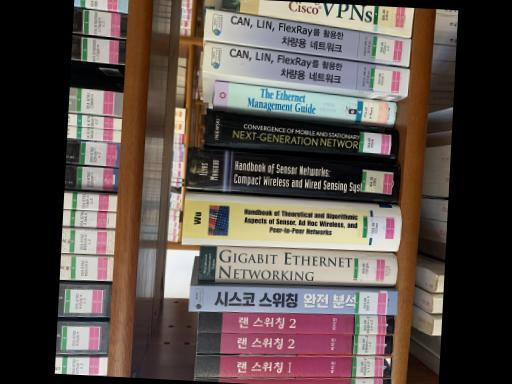book-spine: (182, 190, 401, 251), (203, 7, 411, 65), (185, 146, 400, 201), (202, 40, 409, 95), (204, 109, 398, 158), (197, 246, 398, 287), (212, 81, 396, 125), (221, 0, 414, 35), (188, 285, 397, 314), (197, 311, 394, 334), (194, 354, 391, 376), (196, 333, 393, 355), (194, 378, 390, 384)
